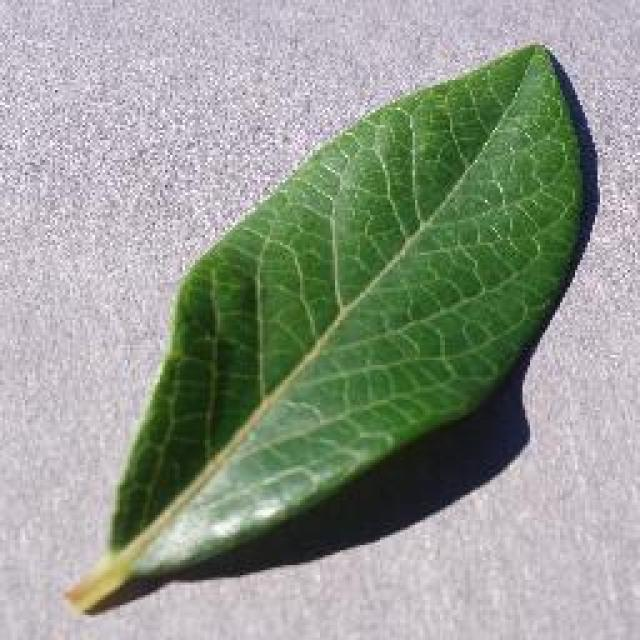Blu_healthy: (167, 151, 508, 440)
